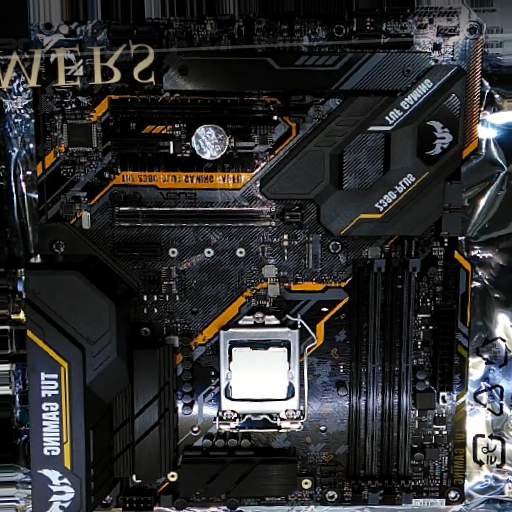CPU: (218, 313, 304, 434)
GPU: (108, 95, 315, 121), (112, 204, 310, 228)
MOTHERBOARD: (35, 3, 478, 509)
RAM: (351, 260, 415, 505)
SSD: (305, 233, 324, 272)
